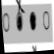correct: (28, 9, 38, 34)
no answer: (1, 11, 11, 36)
not correct: (13, 0, 27, 34)
